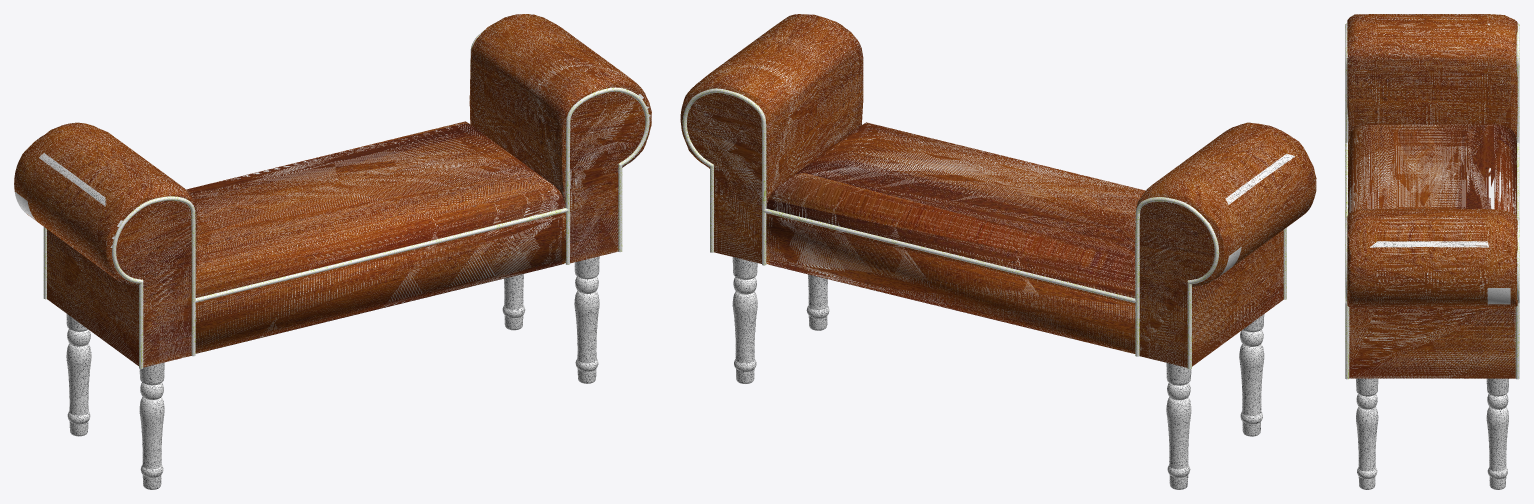
3 renders of one model, left to right at view 1: azimuth 30°, elevation 25°; view 2: azimuth 150°, elevation 25°; view 3: azimuth 270°, elevation 25°, orthographic. The views are drawn at different scales.
Visible parts, largest first — view 1: mesh1_mesh1-geometry, mesh3_mesh3-geometry, mesh6_mesh6-geometry, mesh2_mesh2-geometry, mesh10_mesh10-geometry, mesh9_mesh9-geometry, mesh11_mesh11-geometry; view 2: mesh1_mesh1-geometry, mesh3_mesh3-geometry, mesh6_mesh6-geometry, mesh2_mesh2-geometry, mesh9_mesh9-geometry, mesh10_mesh10-geometry, mesh12_mesh12-geometry; view 3: mesh6_mesh6-geometry, mesh3_mesh3-geometry, mesh1_mesh1-geometry, mesh2_mesh2-geometry, mesh10_mesh10-geometry, mesh9_mesh9-geometry, mesh12_mesh12-geometry, mesh11_mesh11-geometry.
Boxes of the visible parts, x1,y1,x2,y2 form: mesh1_mesh1-geometry: [186, 121, 565, 353]; mesh3_mesh3-geometry: [14, 122, 197, 367]; mesh6_mesh6-geometry: [469, 14, 651, 263]; mesh2_mesh2-geometry: [66, 256, 599, 489]; mesh10_mesh10-geometry: [43, 87, 649, 299]; mesh9_mesh9-geometry: [112, 30, 484, 368]; mesh11_mesh11-geometry: [194, 208, 568, 302]; mesh1_mesh1-geometry: [766, 122, 1145, 353]; mesh3_mesh3-geometry: [1135, 122, 1316, 367]; mesh6_mesh6-geometry: [680, 14, 863, 263]; mesh2_mesh2-geometry: [732, 257, 1264, 489]; mesh9_mesh9-geometry: [682, 88, 1286, 299]; mesh10_mesh10-geometry: [1135, 197, 1219, 369]; mesh12_mesh12-geometry: [763, 208, 1136, 302]; mesh6_mesh6-geometry: [1347, 209, 1517, 378]; mesh3_mesh3-geometry: [1347, 14, 1517, 139]; mesh1_mesh1-geometry: [1348, 124, 1516, 216]; mesh2_mesh2-geometry: [1356, 378, 1508, 489]; mesh10_mesh10-geometry: [1345, 23, 1519, 379]; mesh9_mesh9-geometry: [1345, 23, 1519, 379]; mesh12_mesh12-geometry: [1517, 142, 1519, 217]; mesh11_mesh11-geometry: [1345, 142, 1347, 217].
Size of the model in its own units: 0.851 by 0.4555 by 0.2616.
